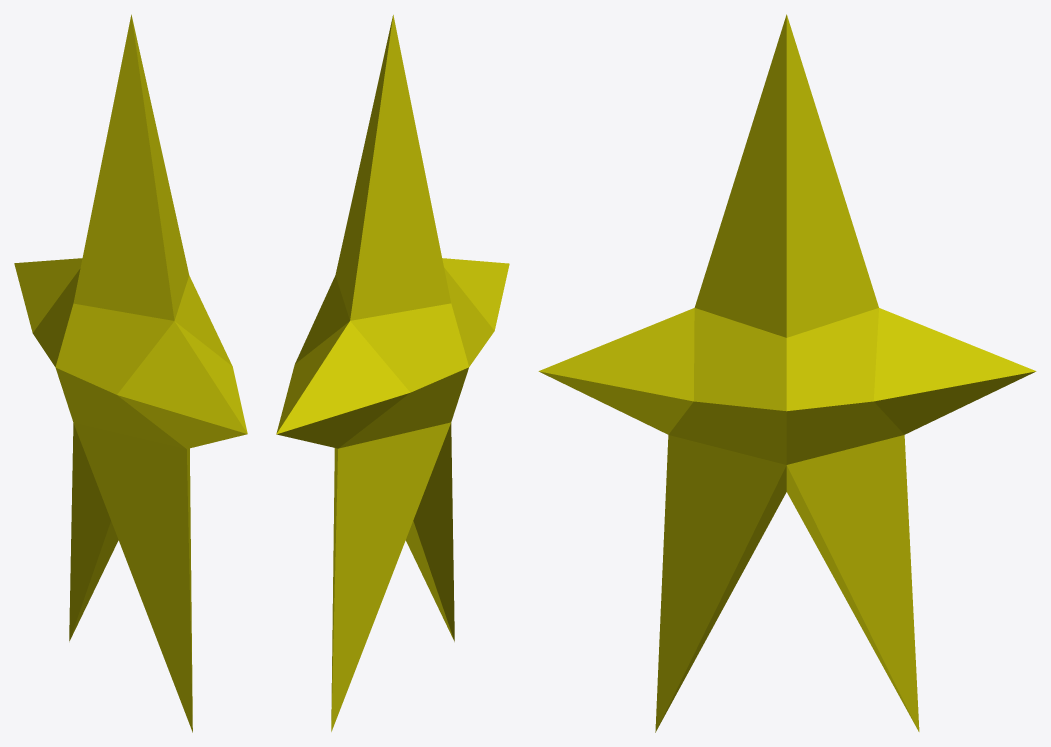
File: tall_star_28.obj
3 views of the same model, side by side, from view 1: azimuth 30°, elevation 25°; view 2: azimuth 150°, elevation 25°; view 3: azimuth 270°, elevation 25° (orthographic). The views are drawn at different scales.
Parts seen in each view (by area): view 1: tall_star_28; view 2: tall_star_28; view 3: tall_star_28.
Part boxes in pixels (left/top/right/bottom): tall_star_28: left=14, top=14, right=247, bottom=732; tall_star_28: left=276, top=15, right=509, bottom=731; tall_star_28: left=538, top=14, right=1036, bottom=732.
Bounding box in the file's own units: 1.43 × 6.03 × 3.79.
